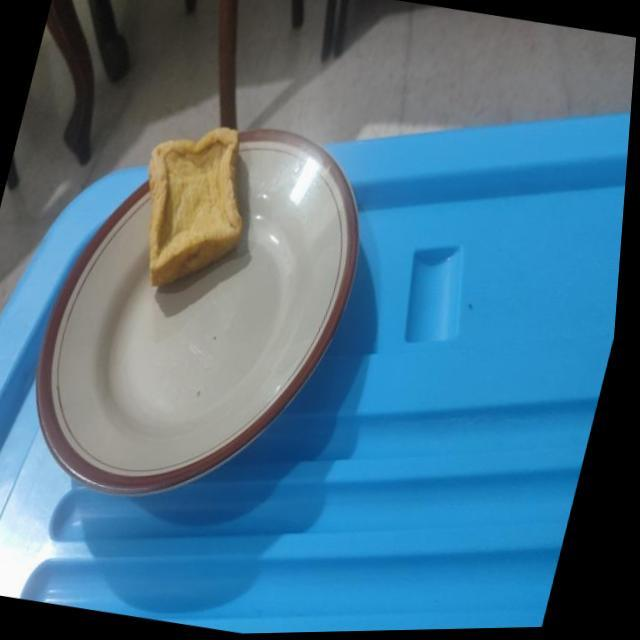tahu_goreng: (148, 127, 242, 285)
